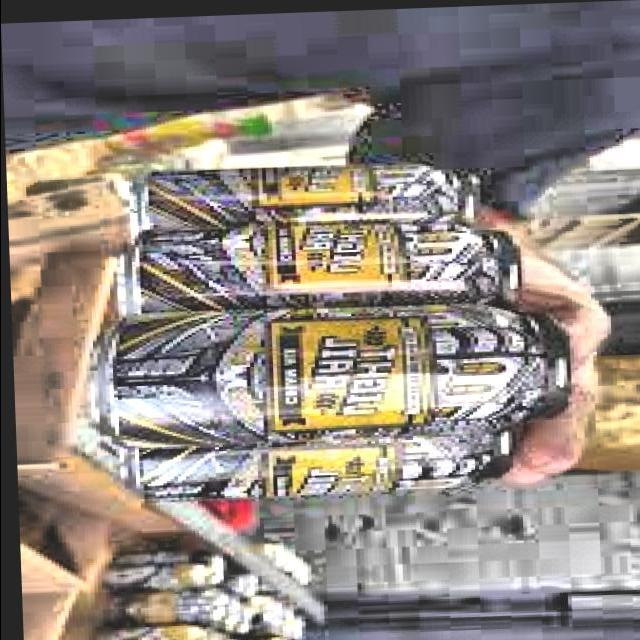litter: (75, 294, 580, 449), (114, 209, 528, 323), (118, 406, 527, 498), (126, 153, 486, 239)
